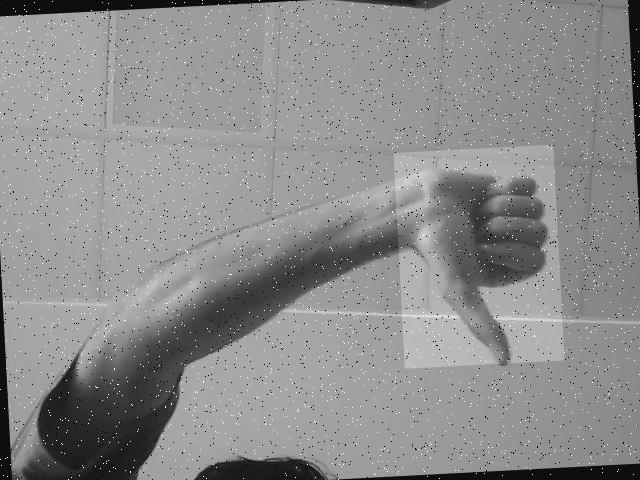bad: (393, 145, 565, 369)
